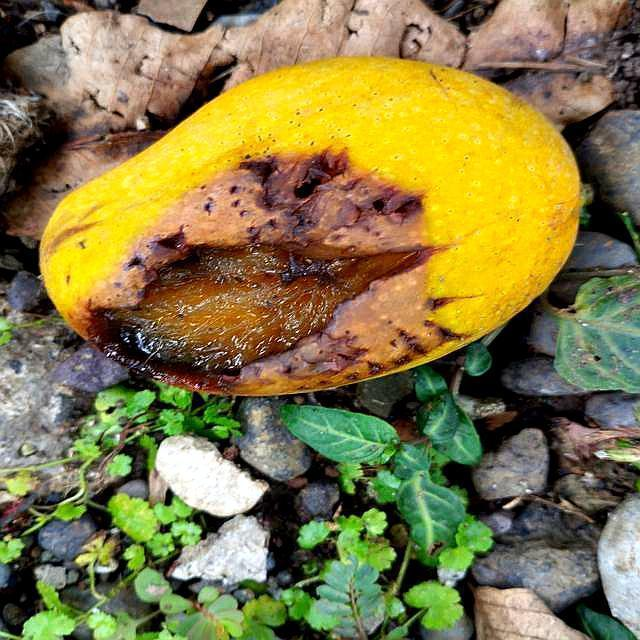Biodegradable: (41, 55, 581, 397)
